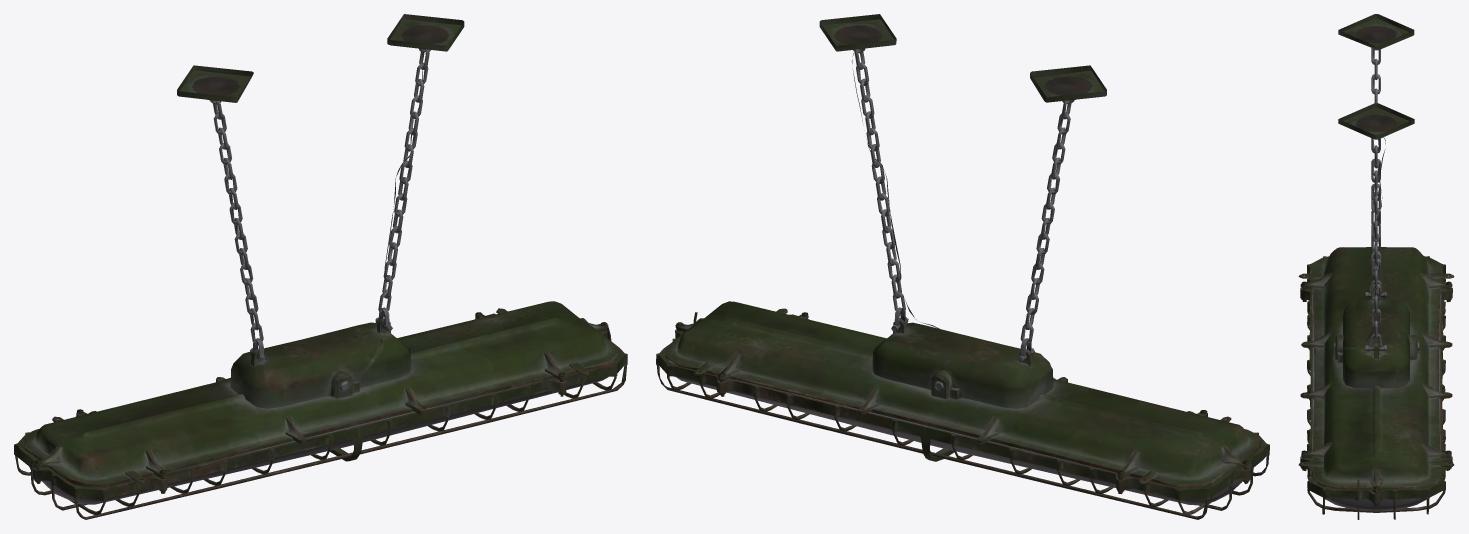
Rendered from caged_hanging_light.glb.
3 renders of one model, left to right at view 1: azimuth 30°, elevation 25°; view 2: azimuth 150°, elevation 25°; view 3: azimuth 270°, elevation 25°, orthographic. The views are drawn at different scales.
Visible parts, largest first — view 1: caged_hanging_light; view 2: caged_hanging_light; view 3: caged_hanging_light.
Boxes of the visible parts, <box> form: caged_hanging_light: <box>14,14,627,519</box>; caged_hanging_light: <box>656,14,1269,519</box>; caged_hanging_light: <box>1298,14,1454,519</box>.
Size of the model in its own units: 1.16 by 0.7501 by 0.3149.
1 material, 1 textured.
